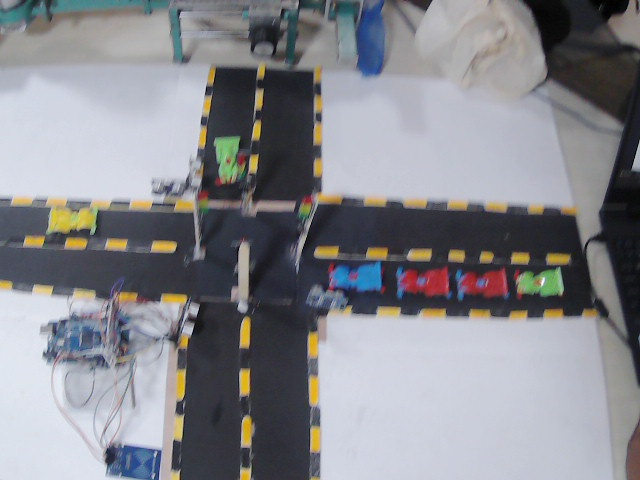car: (509, 259, 576, 309), (454, 266, 521, 311), (40, 200, 116, 234), (392, 261, 446, 306), (334, 261, 395, 297), (211, 132, 250, 183)
traffic_light: (190, 191, 217, 237), (233, 237, 258, 280), (292, 194, 312, 245), (235, 149, 250, 202)
uno_breadboard: (32, 307, 131, 393), (82, 427, 165, 480), (304, 281, 352, 321), (176, 290, 198, 351), (178, 148, 202, 191), (150, 169, 178, 199)
